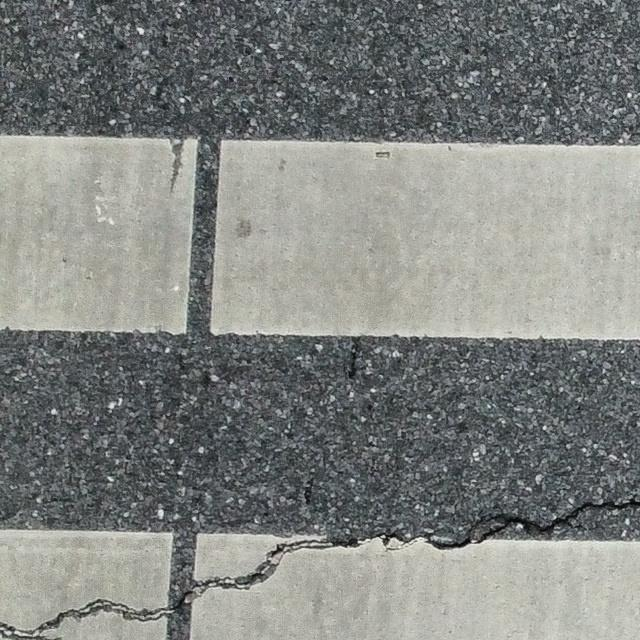TransverseCrack: (1, 493, 639, 638)
